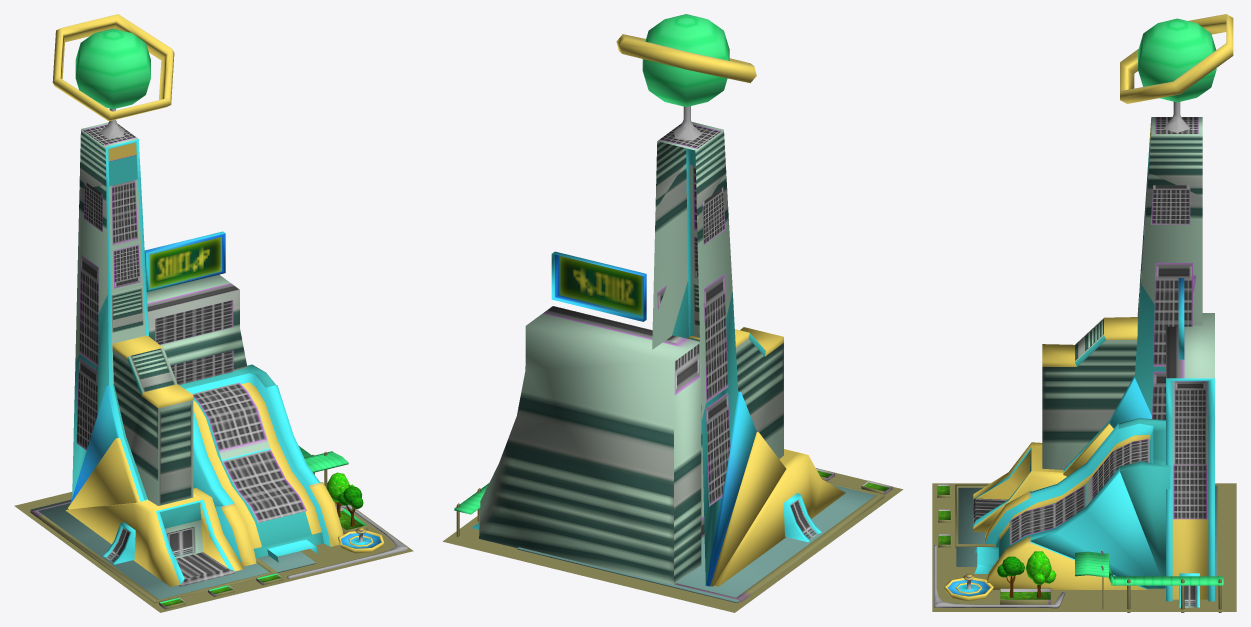
File: media_LV3.fbx
3 views of the same model, side by side, from view 1: azimuth 30°, elevation 25°; view 2: azimuth 150°, elevation 25°; view 3: azimuth 270°, elevation 25° (orthographic). The views are drawn at different scales.
Parts seen in each view (by area): view 1: media level 3; view 2: media level 3; view 3: media level 3.
Part boxes in pixels (x1,y1,x2,y2): media level 3: (14,14,413,612); media level 3: (443,14,903,612); media level 3: (932,14,1236,612).
Size of the model in its own units: 101 by 183 by 100.
